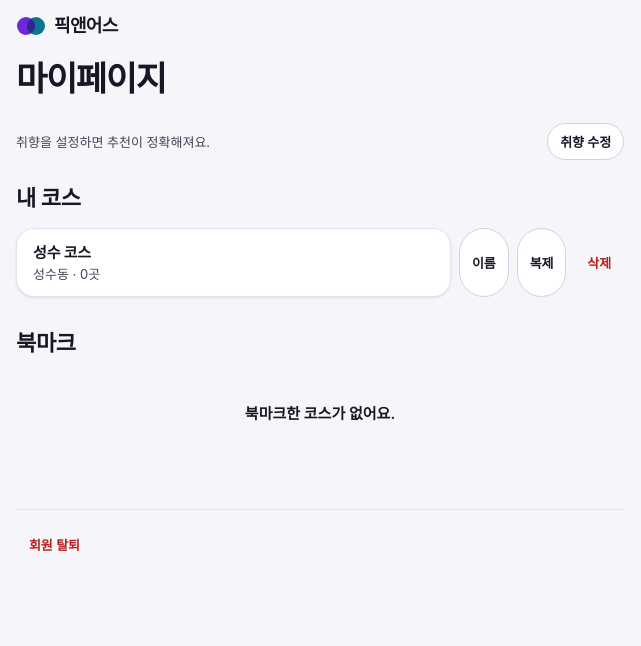
Scenario: 마이페이지 › 복제 버튼을 누르면 사본이 목록에 추가된다
Click the button with aria-label "성수 코스 복제" at (542, 263), box [517,228,566,297]
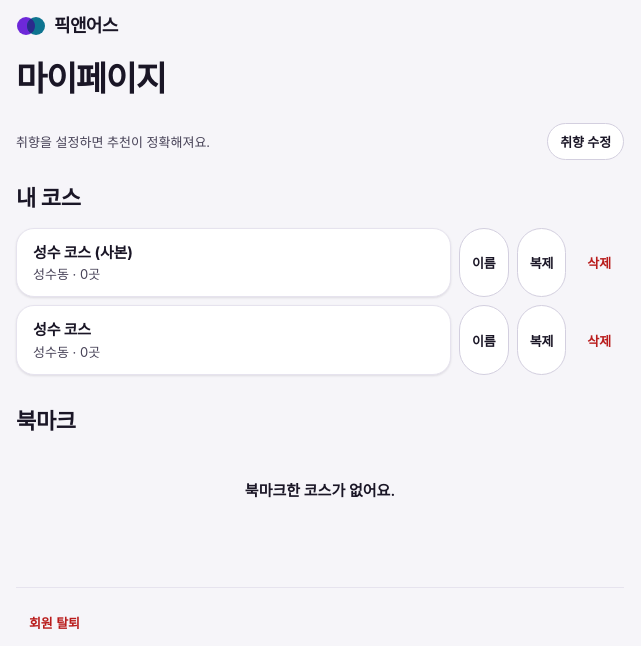
expect the text "성수 코스 (사본)" is shown: met, box [33,243,133,262]
